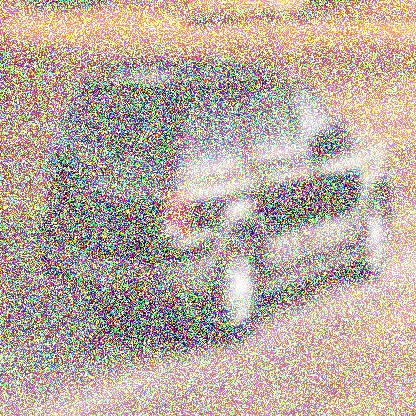Vehicle: (39, 60, 398, 349)
